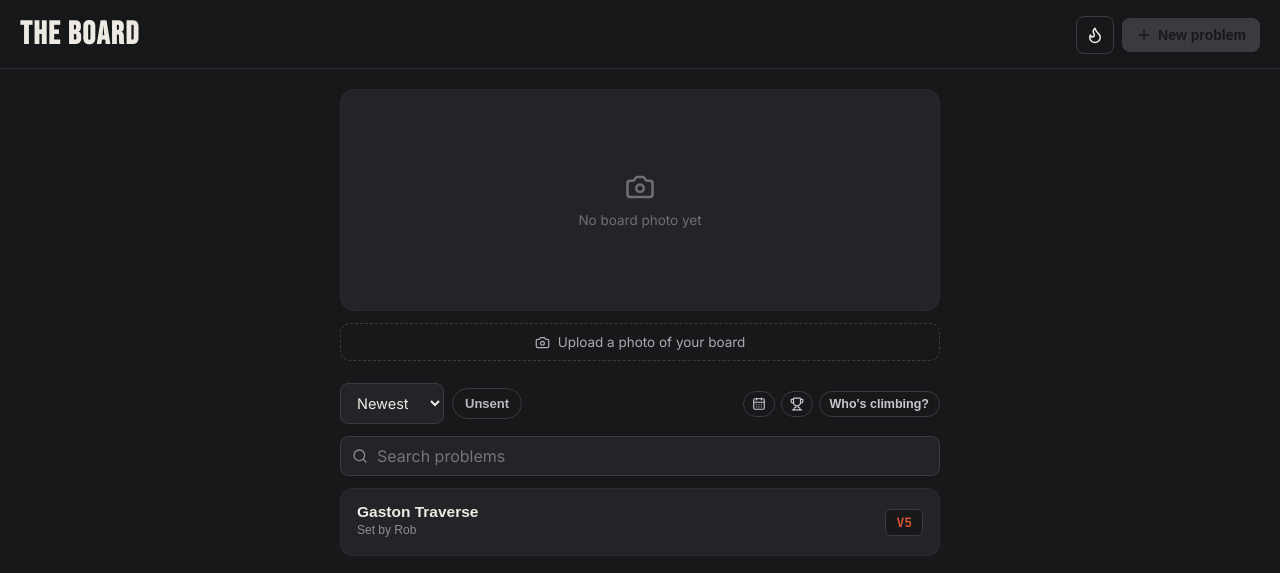
Scenario: App (tick log flow) › shows "Not sent yet" for a problem with no log entries
Click the text "Gaston Traverse".
click(418, 512)  # box 357,503 -> 478,521
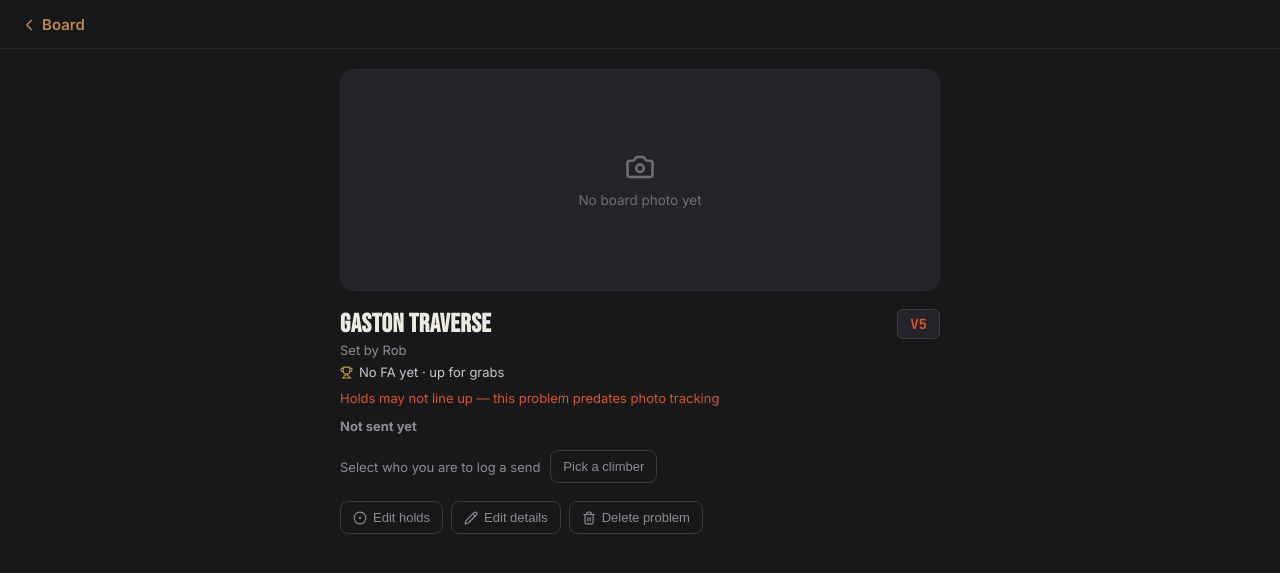
Check: the text "Not sent yet" is shown, box 340,418 -> 417,434
